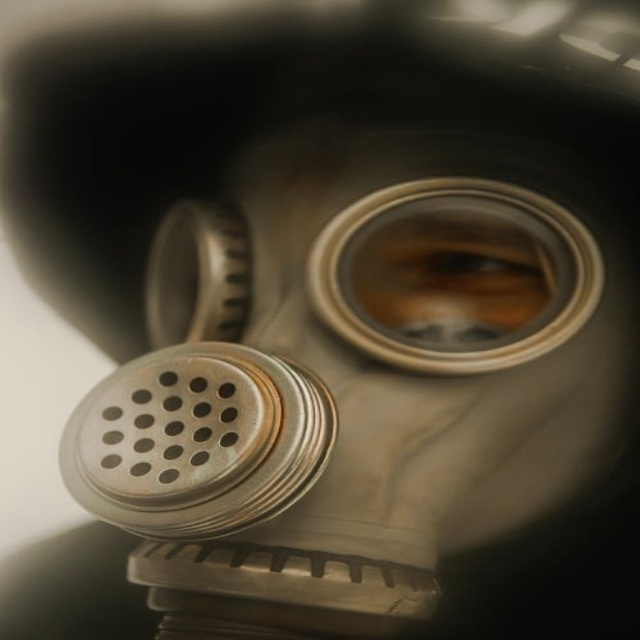Mascara: (49, 41, 632, 596)
